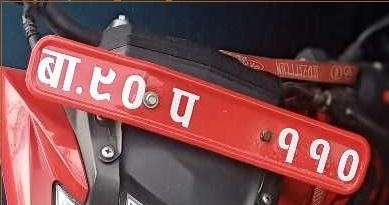0: (120, 69, 152, 113), (335, 143, 362, 185)
1: (276, 126, 302, 166), (309, 137, 332, 176)
9: (85, 64, 118, 105)
ba: (36, 46, 81, 92)
pa: (166, 87, 205, 136)
